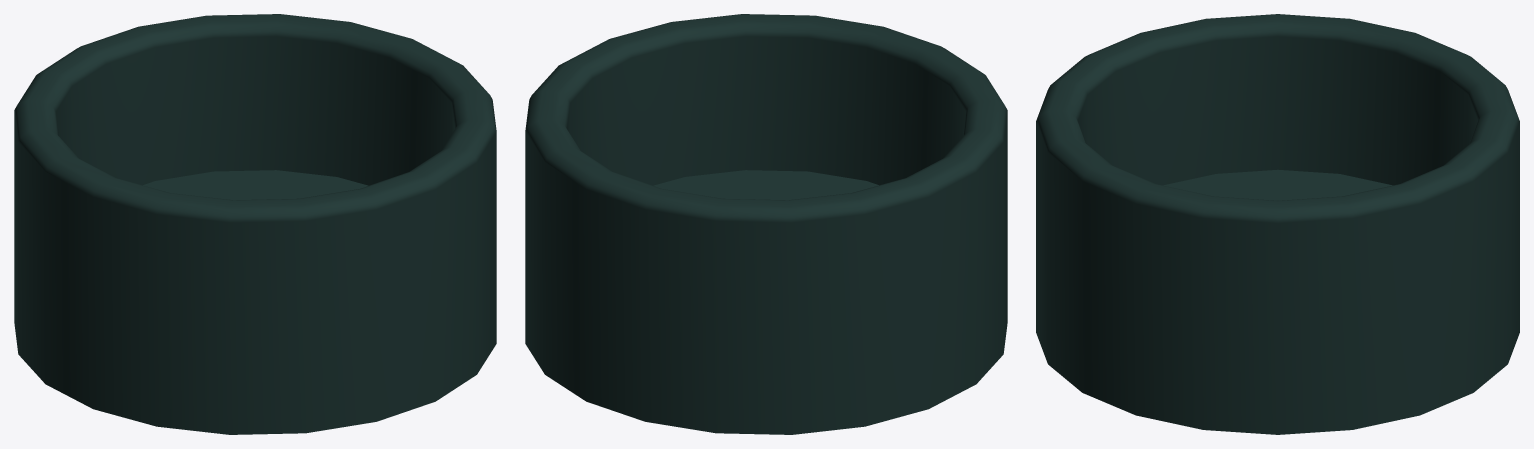
File: well.fbx
3 renders of one model, left to right at view 1: azimuth 30°, elevation 25°; view 2: azimuth 150°, elevation 25°; view 3: azimuth 270°, elevation 25°, orthographic.
Visible parts, largest first — view 1: well; view 2: well; view 3: well.
Part boxes in pixels (x1=…): well: x1=14, y1=14, x2=496, y2=434; well: x1=525, y1=14, x2=1007, y2=434; well: x1=1036, y1=14, x2=1519, y2=434.
Bounding box in the file's own units: 40 × 20.22 × 40.
